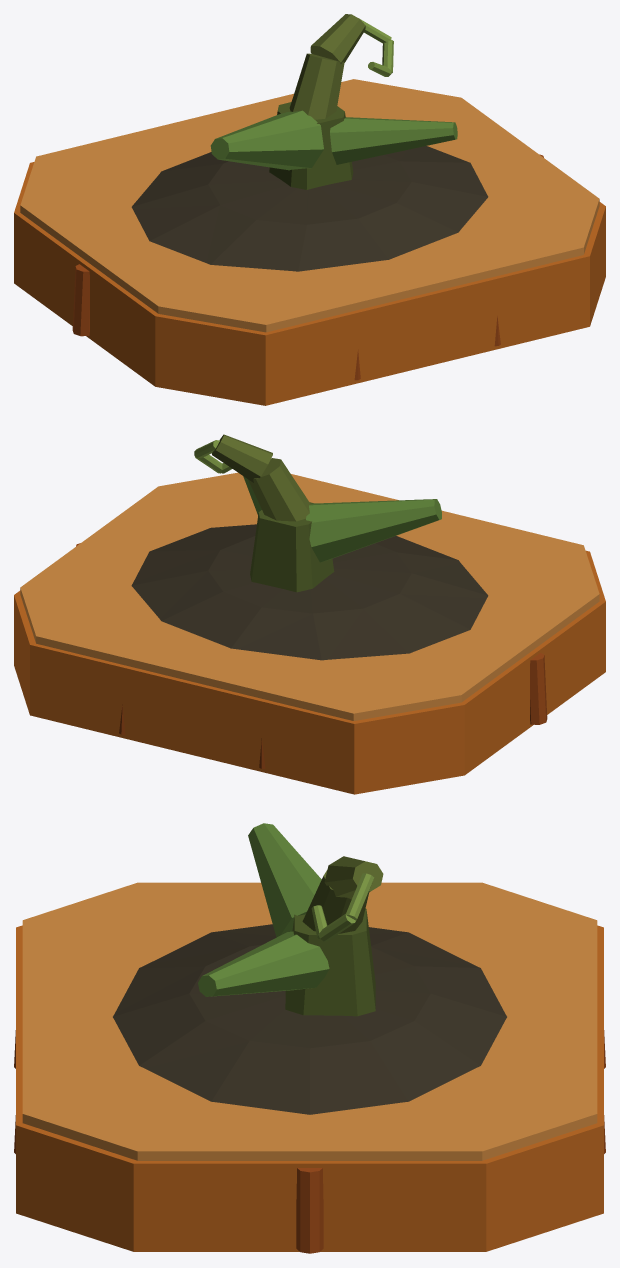
The model's file is stemband.glb.
The picture shows the model from 3 angles, top to bottom: view 1: azimuth 30°, elevation 25°; view 2: azimuth 150°, elevation 25°; view 3: azimuth 270°, elevation 25°; orthographic projection. The views are drawn at different scales.
Parts seen in each view (by area): view 1: Pumpkin Stem Band.002; view 2: Pumpkin Stem Band.002; view 3: Pumpkin Stem Band.002.
Part boxes in pixels (box(x1,y1,x2,y2)): Pumpkin Stem Band.002: box(14, 14, 605, 405); Pumpkin Stem Band.002: box(14, 434, 605, 794); Pumpkin Stem Band.002: box(14, 823, 605, 1253).
Size of the model in its own units: 0.6514 by 0.3082 by 0.566.
